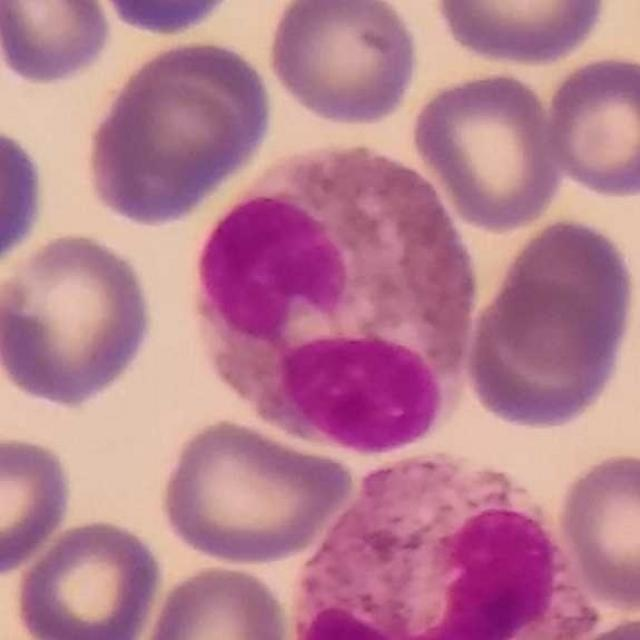eosino: (195, 142, 482, 457), (291, 452, 600, 640)
